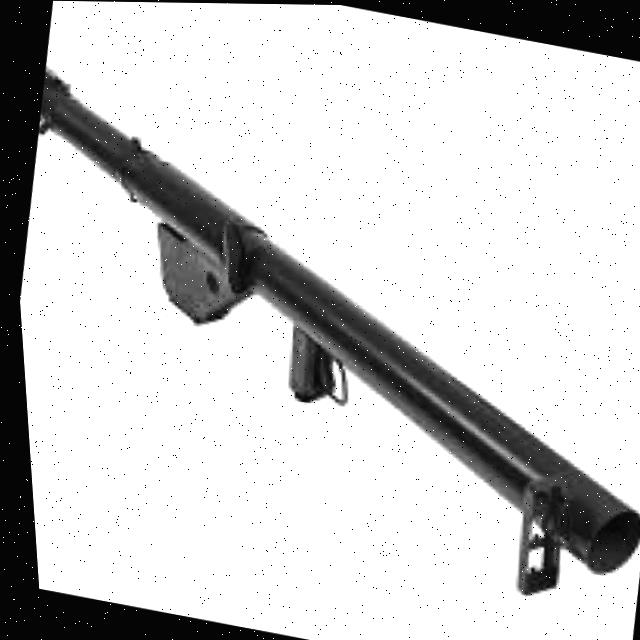rocket: (0, 7, 640, 640)
